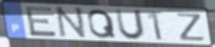1: (147, 11, 164, 42)
E: (24, 5, 59, 37)
N: (55, 6, 87, 40)
Q: (86, 9, 118, 40)
U: (113, 8, 146, 42)
Z: (175, 12, 207, 42)
